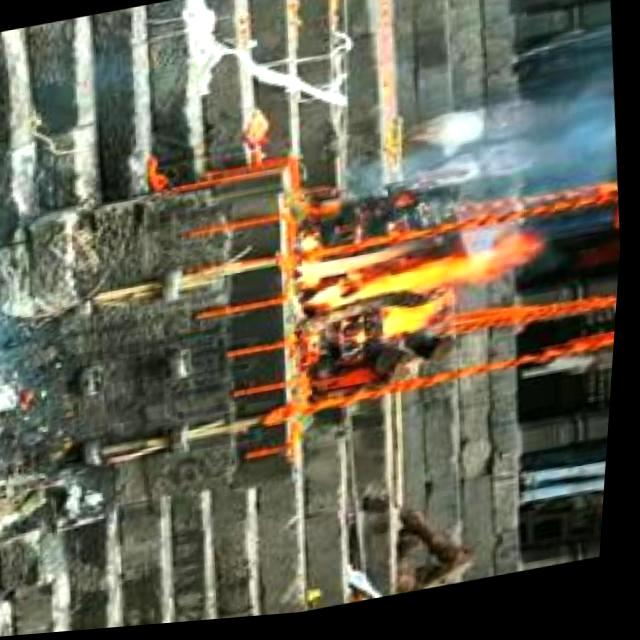fire: (283, 225, 529, 363)
